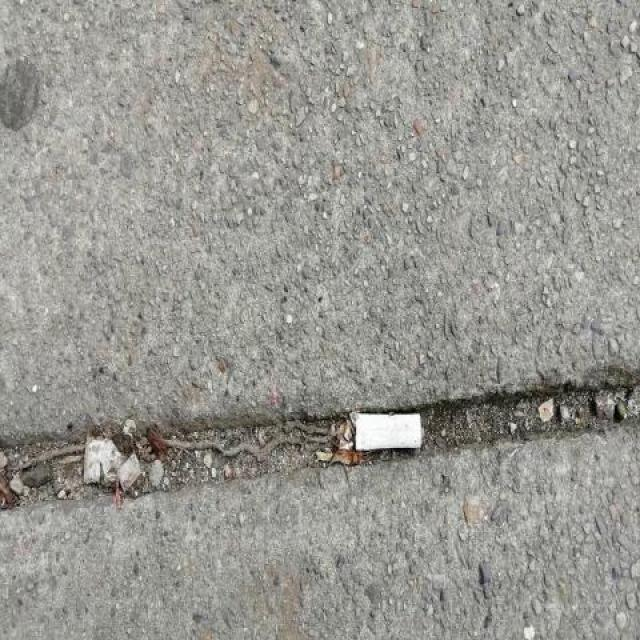non-organic waste: (350, 408, 425, 456)
